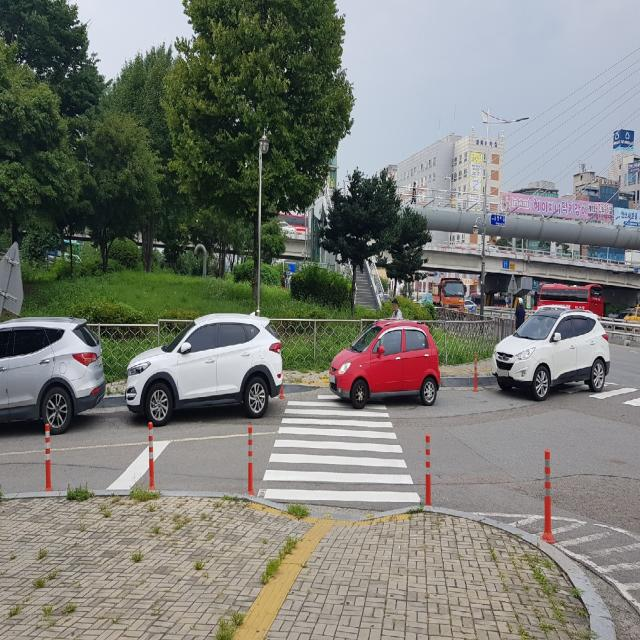횡단보도: (255, 393, 423, 504)
